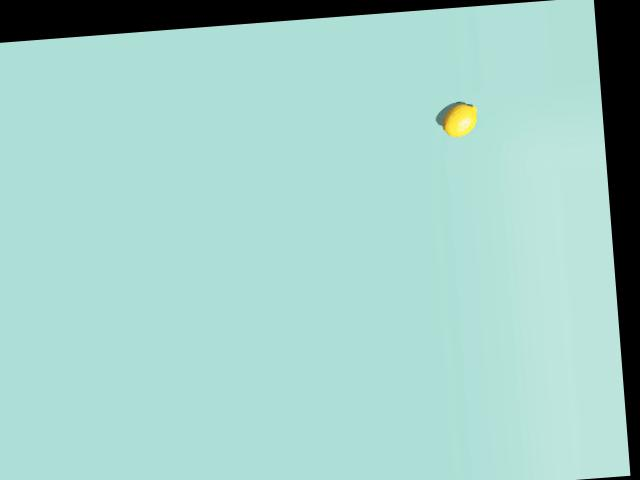lemon: (431, 97, 481, 138)
